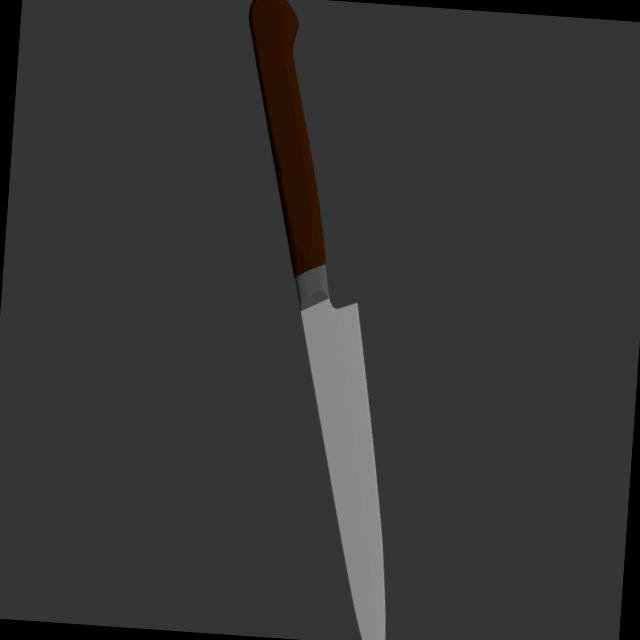knife: (230, 0, 343, 281)
